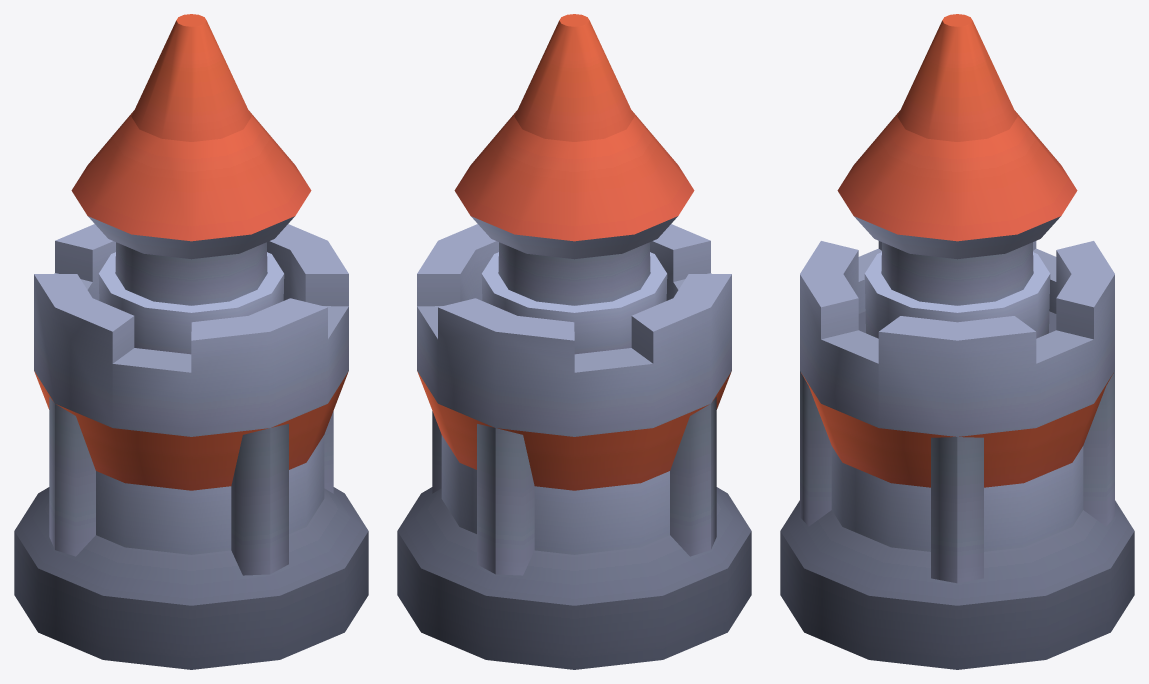
File: kenney-tower-defense-tower-round-build-d.glb
3 views of the same model, side by side, from view 1: azimuth 30°, elevation 25°; view 2: azimuth 150°, elevation 25°; view 3: azimuth 270°, elevation 25° (orthographic).
Parts seen in each view (by area): view 1: tower-round-build-d; view 2: tower-round-build-d; view 3: tower-round-build-d.
Part boxes in pixels (x1,y1,x2,y2): tower-round-build-d: (14, 14, 368, 669); tower-round-build-d: (397, 14, 751, 669); tower-round-build-d: (780, 14, 1134, 669).
Bounding box in the file's own units: 1 × 1.79 × 1.
Materials: 1 (1 with a texture image).
